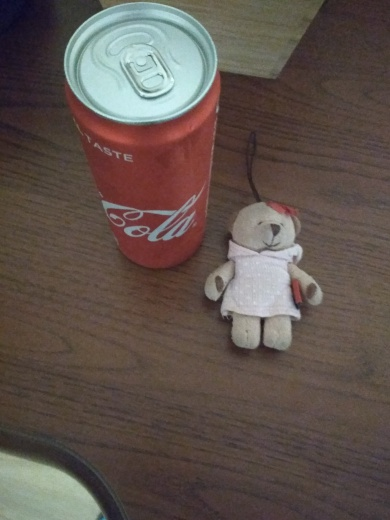cola: (51, 3, 225, 274)
